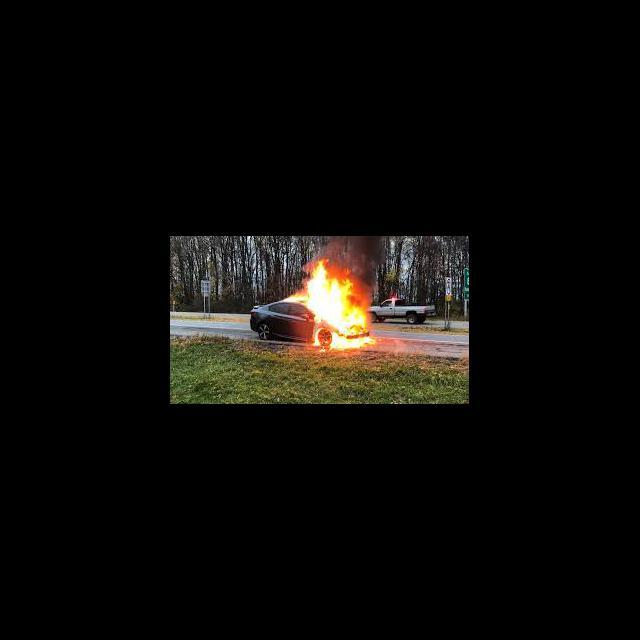Fire: (282, 256, 385, 354)
